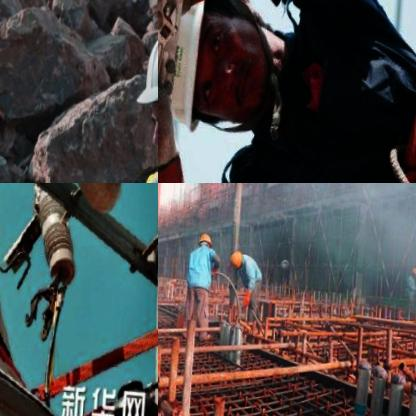helmet: (158, 0, 280, 128), (127, 2, 158, 183), (199, 227, 216, 250), (231, 244, 248, 267), (410, 259, 416, 274)
